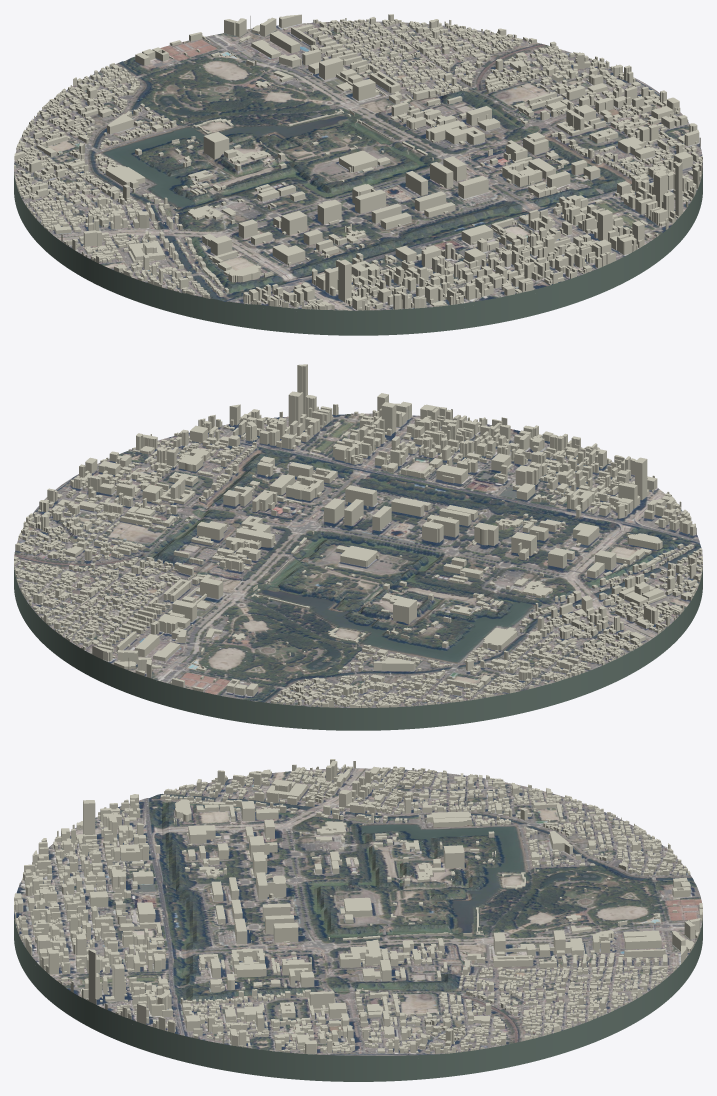
The model's file is nagoya.glb.
3 renders of one model, top to bottom at view 1: azimuth 30°, elevation 25°; view 2: azimuth 150°, elevation 25°; view 3: azimuth 270°, elevation 25°, orthographic.
Visible parts, largest first — view 1: Buildings, Terrain, Cut edge · 70 m display base; view 2: Buildings, Terrain, Cut edge · 70 m display base; view 3: Terrain, Buildings, Cut edge · 70 m display base.
Part boxes in pixels (x1,y1,x2,y2): Buildings: (14,14,702,310); Terrain: (14,21,702,310); Cut edge · 70 m display base: (14,168,702,335); Buildings: (14,364,702,707); Terrain: (14,413,702,707); Cut edge · 70 m display base: (14,567,702,730); Terrain: (14,768,702,1055); Buildings: (14,759,702,1053); Cut edge · 70 m display base: (14,915,702,1081).
Size of the model in its own units: 2000 by 247 by 2000.
Materials: 4 (1 with a texture image).
